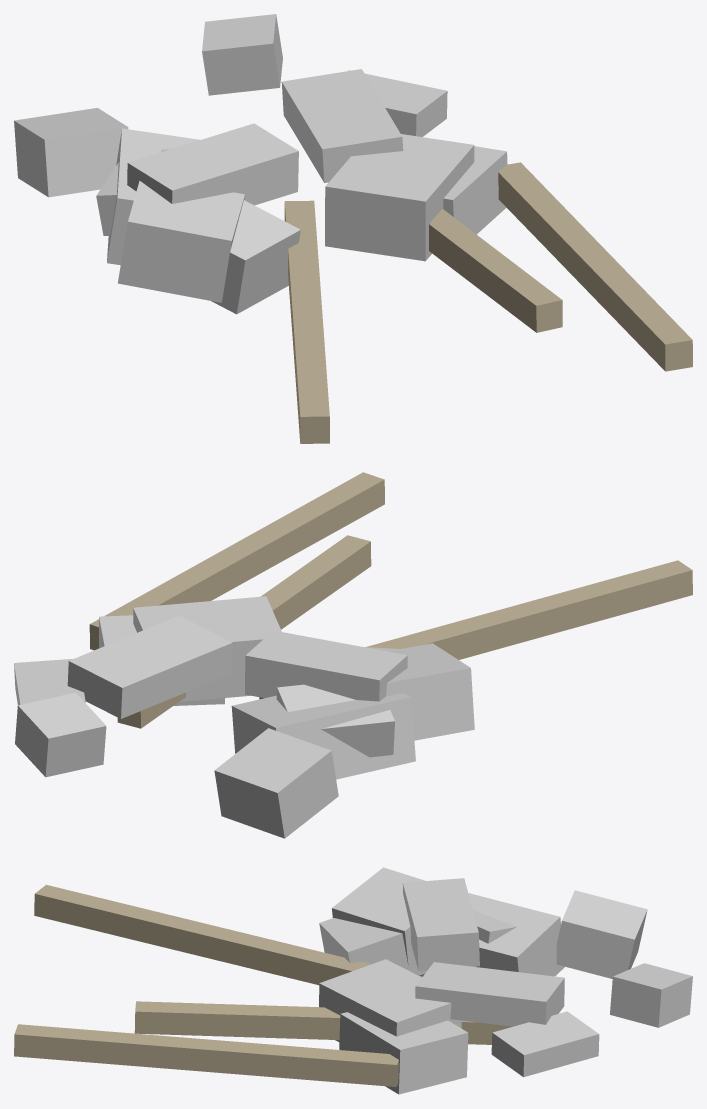
Rendered from AE_C03_CollapsePile.fbx.
3 renders of one model, top to bottom at view 1: azimuth 30°, elevation 25°; view 2: azimuth 150°, elevation 25°; view 3: azimuth 270°, elevation 25°, orthographic. The views are drawn at different scales.
Visible parts, largest first — view 1: AE_C03_CollapsePile_LOD0; view 2: AE_C03_CollapsePile_LOD0; view 3: AE_C03_CollapsePile_LOD0.
Boxes of the visible parts, x1,y1,x2,y2 form: AE_C03_CollapsePile_LOD0: (14, 14, 692, 443); AE_C03_CollapsePile_LOD0: (14, 472, 692, 838); AE_C03_CollapsePile_LOD0: (14, 867, 692, 1094).
Size of what is drawn, in the model's own units: 120 by 26.1 by 195.
